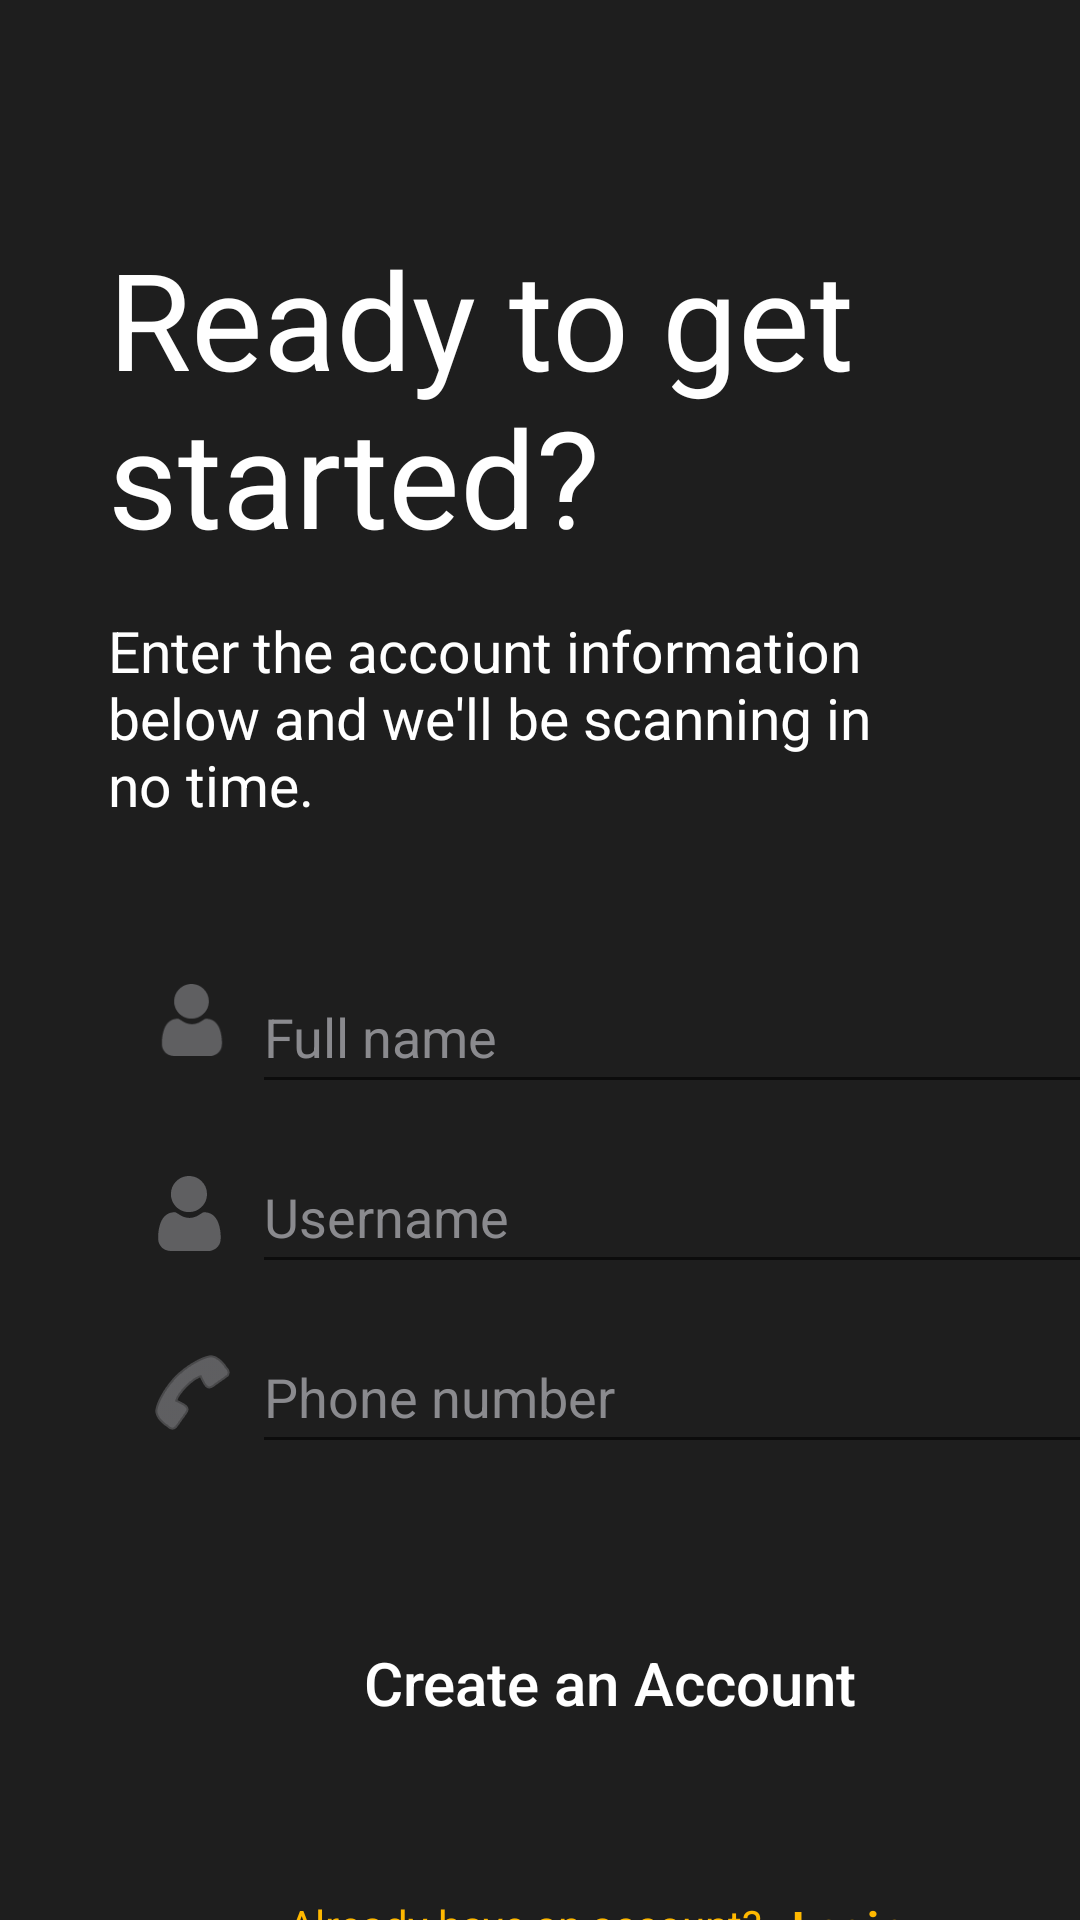

Named icons in this screenshot (1080px×1920px) and their centers, (x=x, y=y):
call: (x=192, y=1392)
icon of profile: (x=189, y=1213)
profile: (x=192, y=1020)
